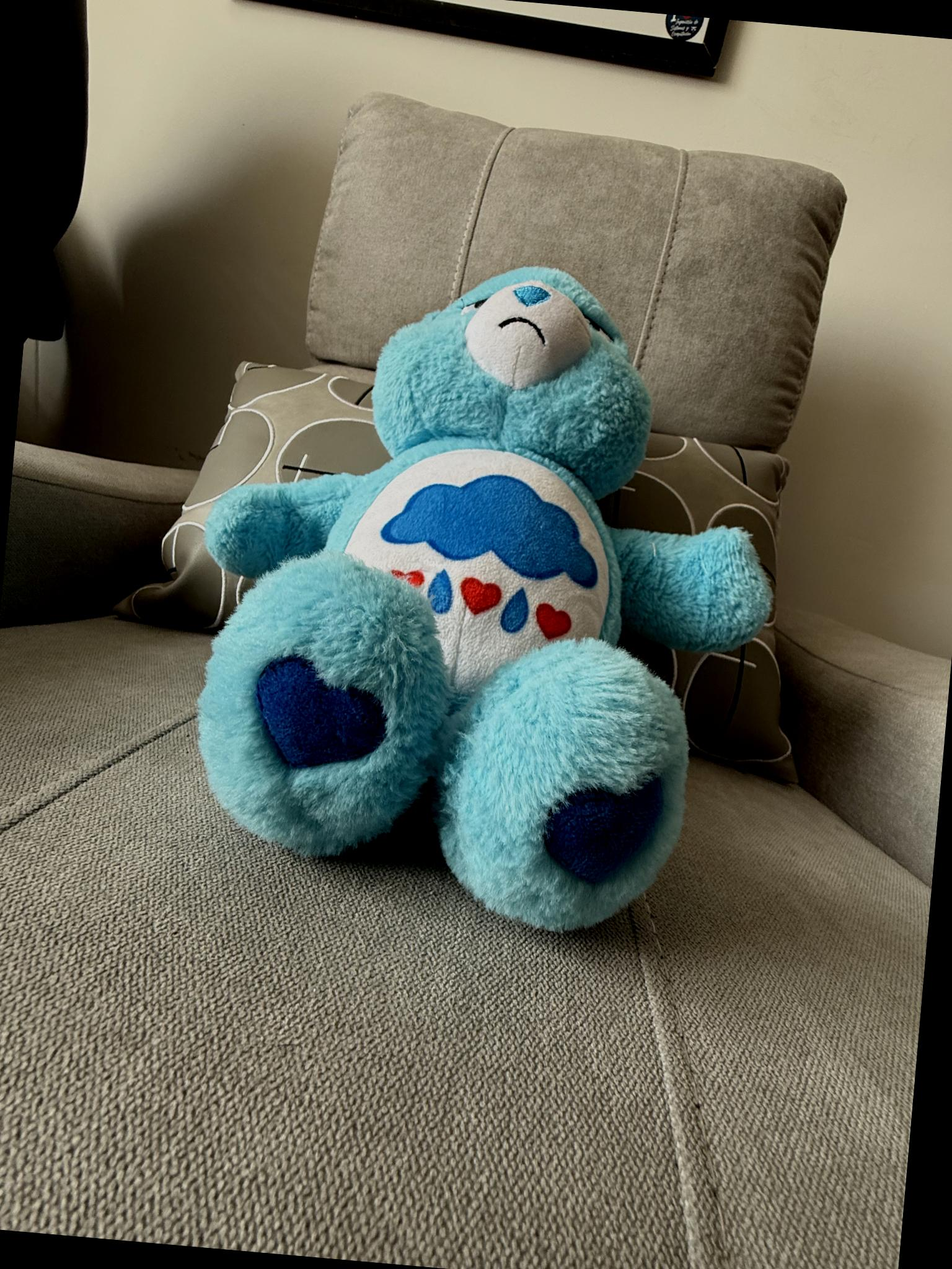peluche_Juan Jose: (170, 226, 804, 952)
